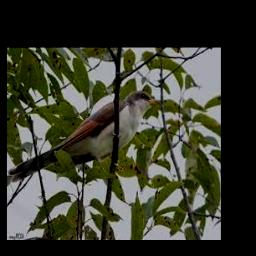Cuckoo: (9, 90, 164, 183)
